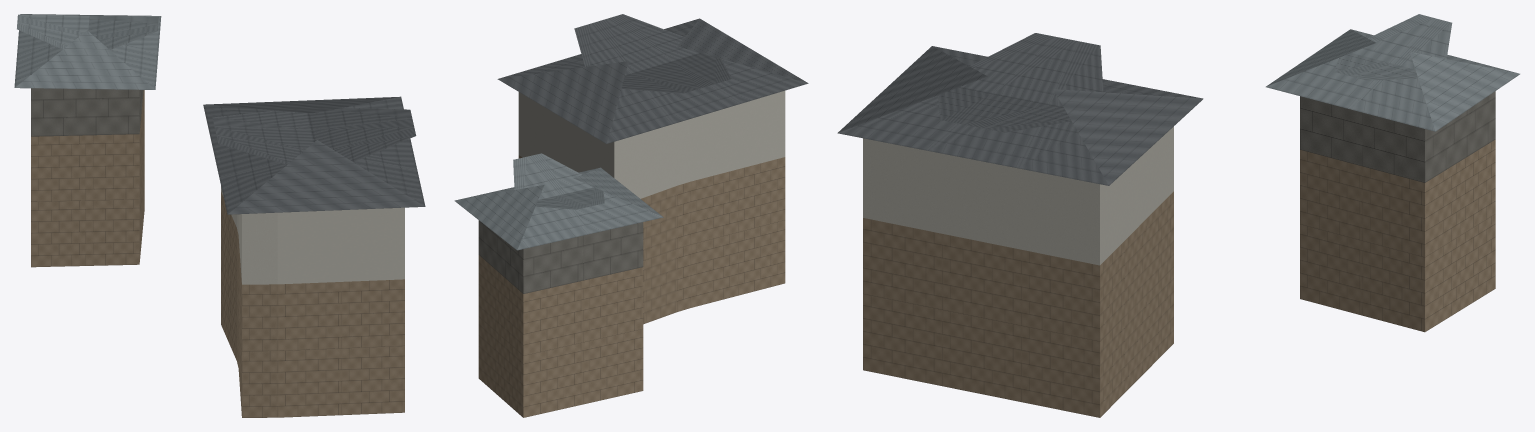
The model's file is bld_c31_-40_458.gltf.
The picture shows the model from 3 angles, left to right: view 1: azimuth 30°, elevation 25°; view 2: azimuth 150°, elevation 25°; view 3: azimuth 270°, elevation 25°; orthographic projection. The views are drawn at different scales.
Visible parts, largest first — view 1: bld_c31_-40_458; view 2: bld_c31_-40_458; view 3: bld_c31_-40_458.
Part boxes in pixels (x1=…): bld_c31_-40_458: x1=14, y1=14, x2=425, y2=417; bld_c31_-40_458: x1=454, y1=14, x2=808, y2=417; bld_c31_-40_458: x1=837, y1=14, x2=1519, y2=417.
Size of the model in its own units: 10.14 by 8.3 by 18.67.
Materials: 5 (5 with a texture image).
